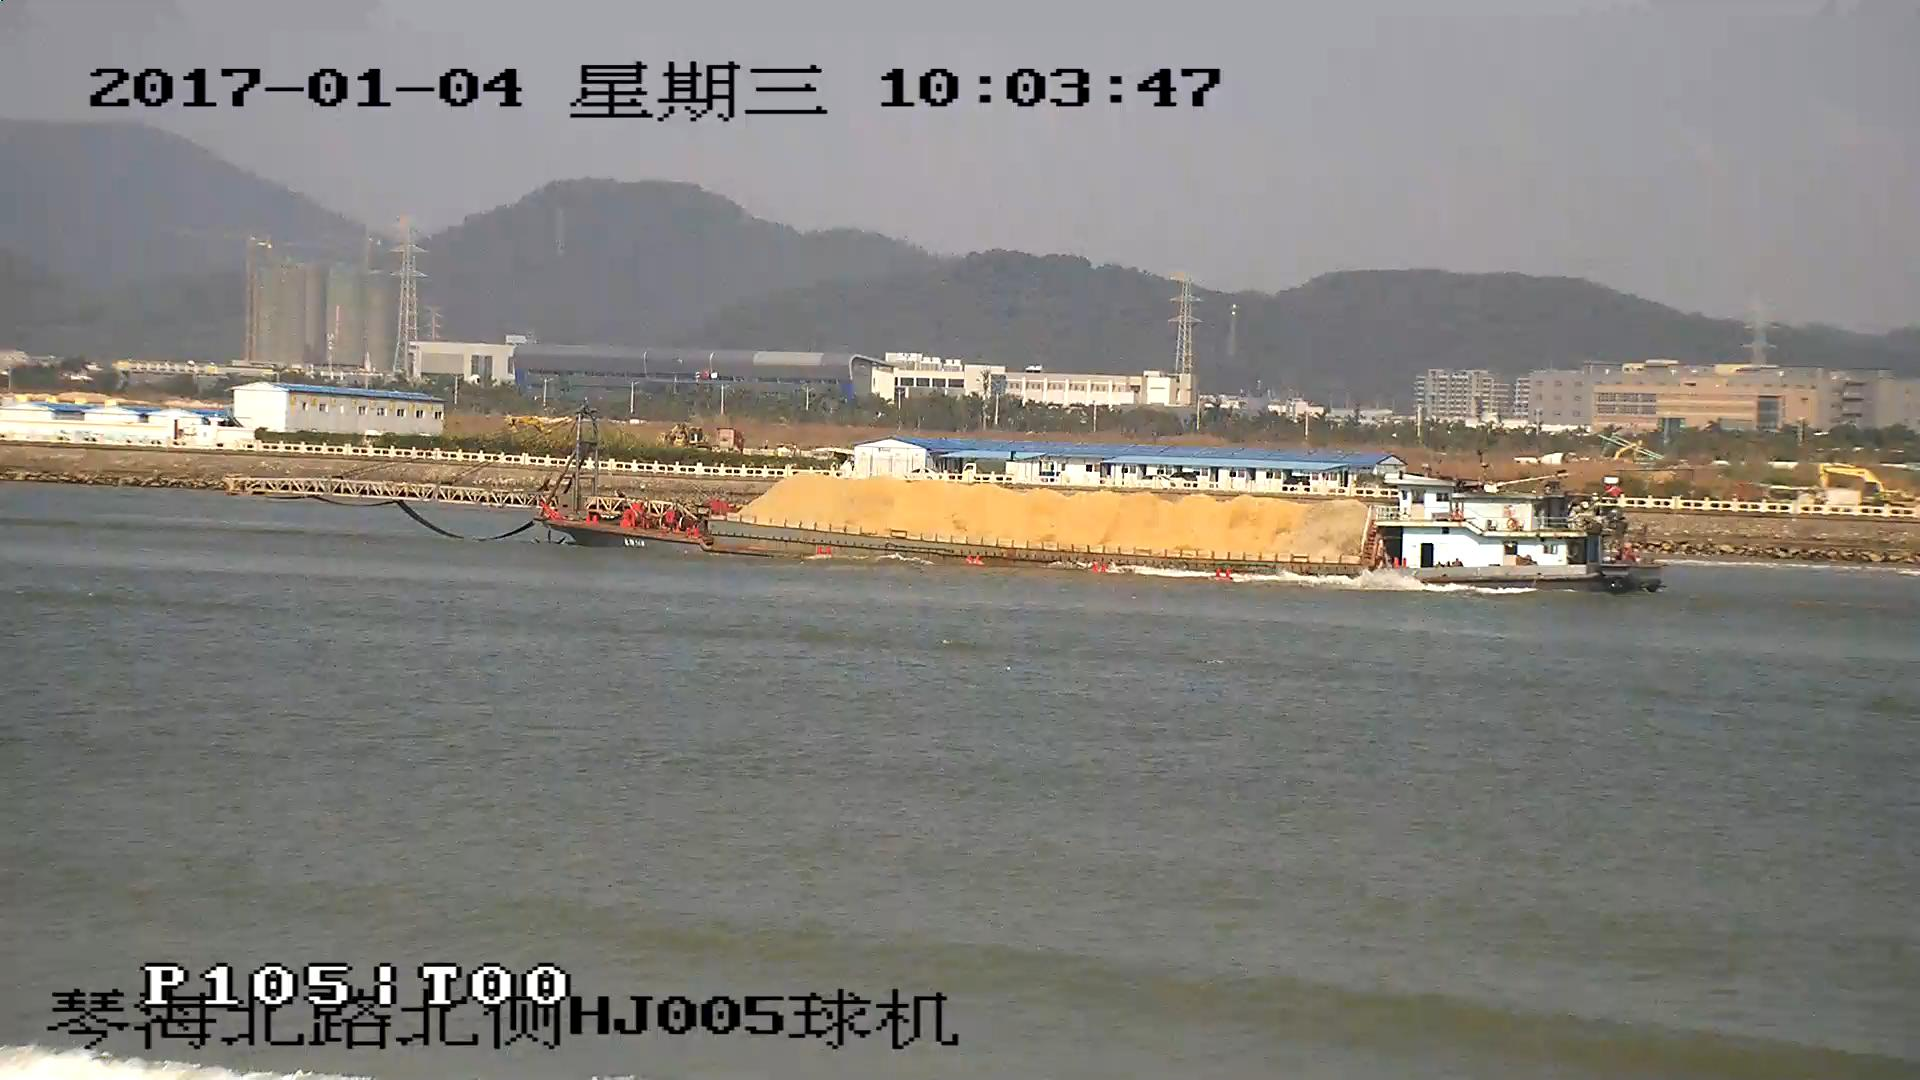ore carrier: (229, 409, 1663, 591)
